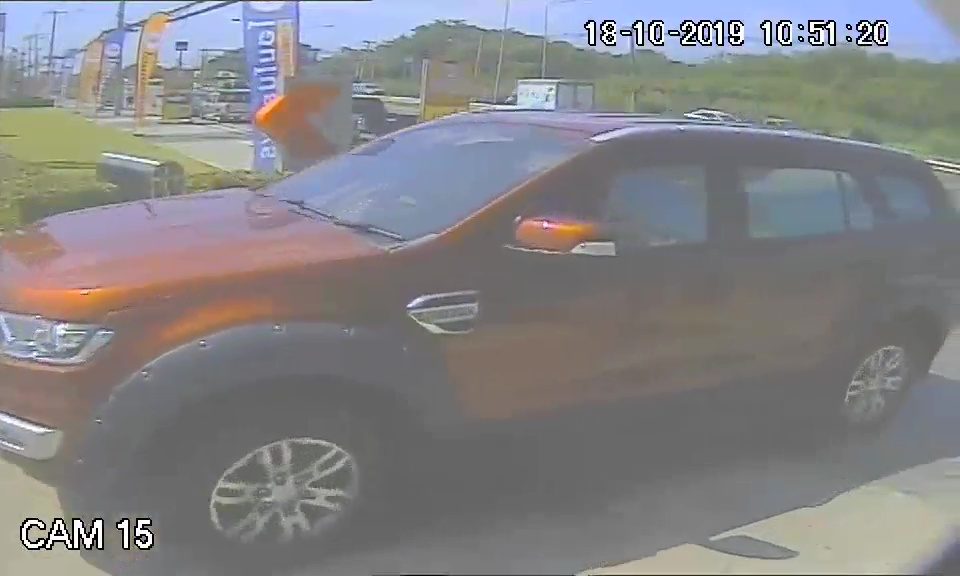pickup: (8, 98, 950, 499)
